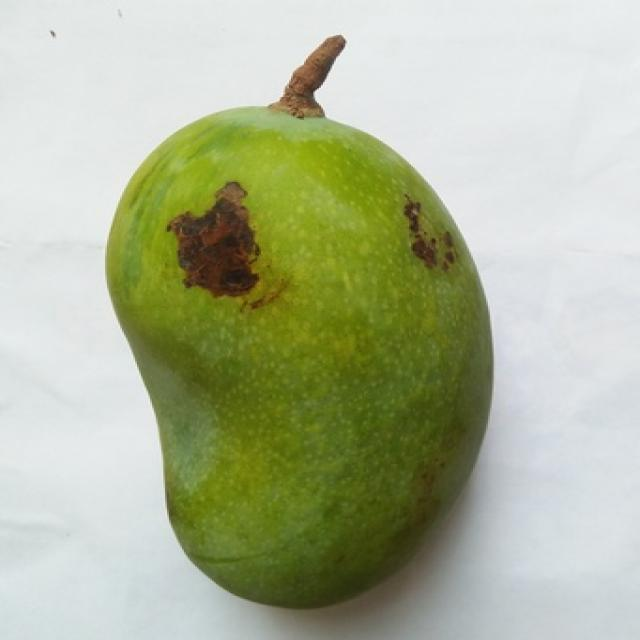Mango: (107, 38, 492, 607)
